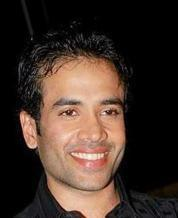face: (57, 97, 122, 168)
